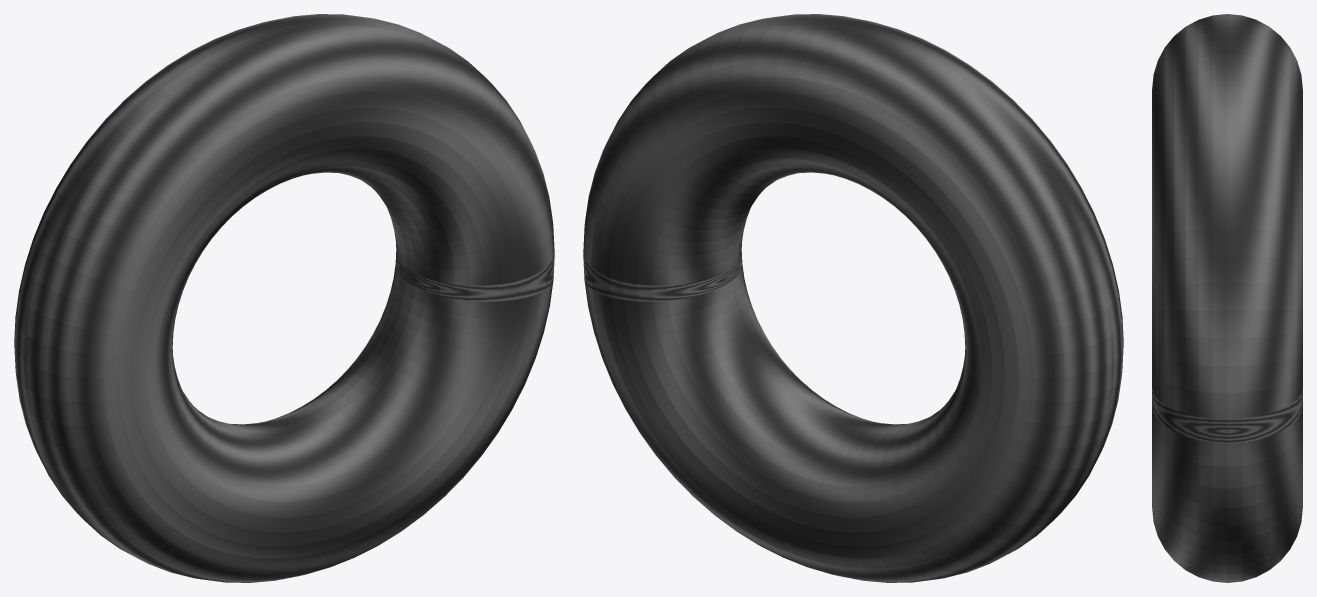
The model's file is torus-mid.glb.
3 views of the same model, side by side, from view 1: azimuth 30°, elevation 25°; view 2: azimuth 150°, elevation 25°; view 3: azimuth 270°, elevation 25° (orthographic). The views are drawn at different scales.
Parts seen in each view (by area): view 1: world; view 2: world; view 3: world.
Part boxes in pixels (x1=…): world: x1=14, y1=14, x2=554, y2=582; world: x1=583, y1=14, x2=1123, y2=582; world: x1=1152, y1=14, x2=1302, y2=582.
Size of the model in its own units: 1.36 by 1.36 by 0.36.
Materials: 1 (1 with a texture image).
